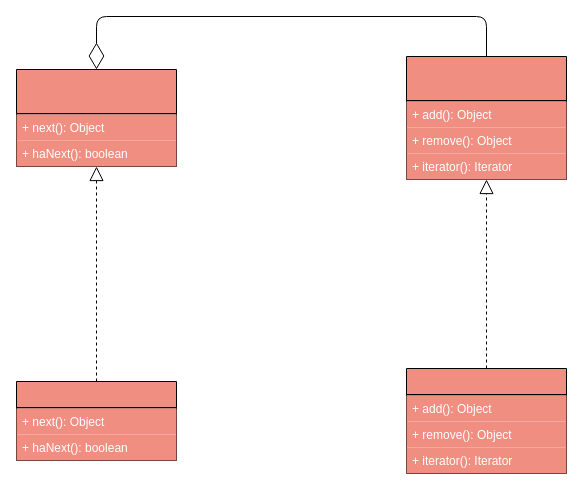
Some shapes in this 583 by 490 pixel diagram are drawn without their labels. The shapes that lost their labels are listed below. From the top down, each one's box as (x1, y1, x2, y2) in pixels, then its label:
(16, 68, 176, 166): «interface» Iterator
(406, 56, 566, 180): «interface» Aggregate
(16, 380, 176, 460): ConcreteIterator
(406, 368, 566, 474): ConcreteAggregate
